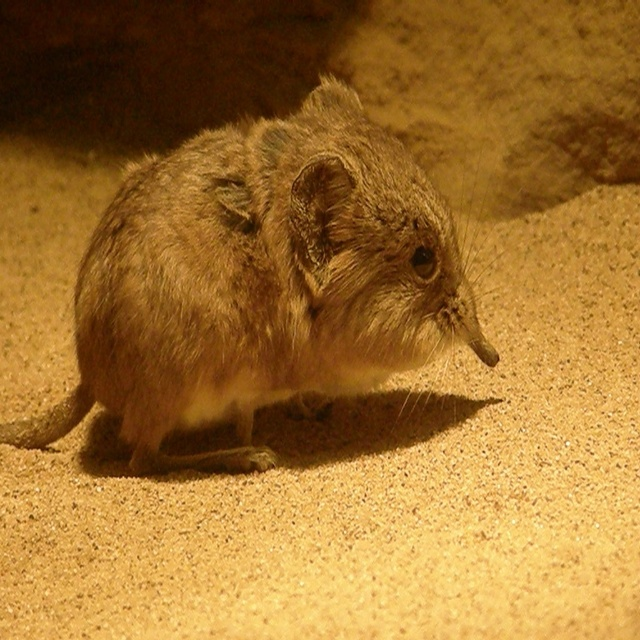Mouse: (0, 76, 504, 471)
